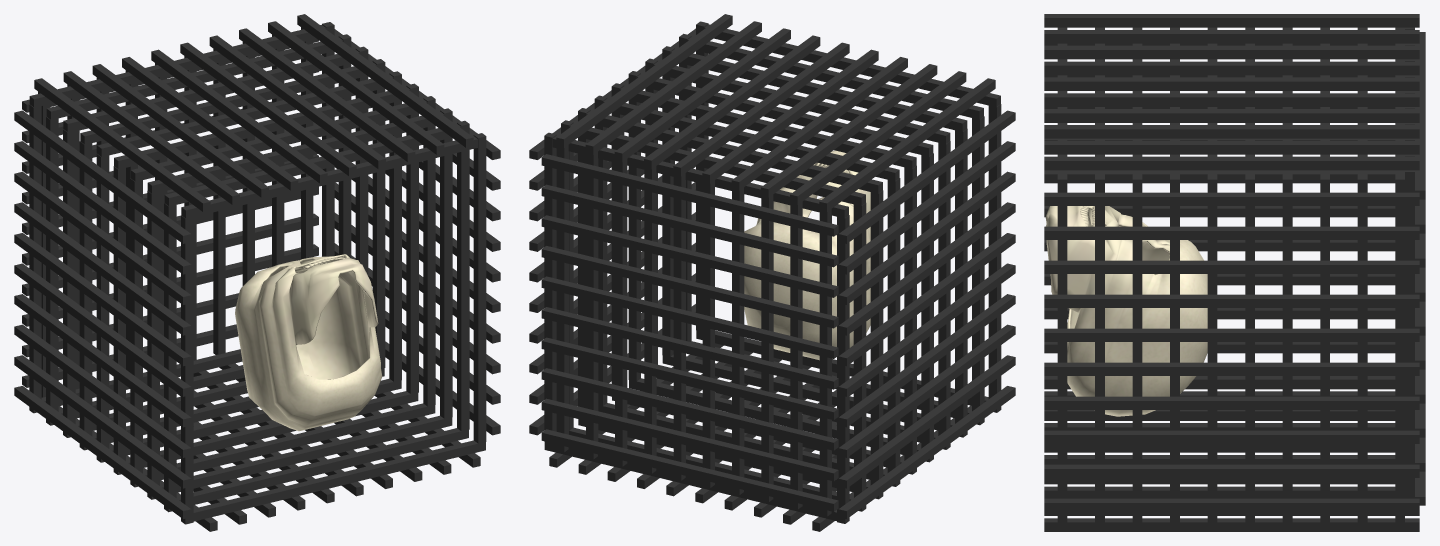
The model's file is skull3.fbx.
3 views of the same model, side by side, from view 1: azimuth 30°, elevation 25°; view 2: azimuth 150°, elevation 25°; view 3: azimuth 270°, elevation 25° (orthographic). The views are drawn at different scales.
Parts seen in each view (by area): view 1: Cube.000; view 2: Cube.000; view 3: Cube.000.
Boxes of the visible parts, x1=… form: Cube.000: x1=14, y1=14, x2=500, y2=531; Cube.000: x1=529, y1=14, x2=1015, y2=531; Cube.000: x1=1044, y1=14, x2=1425, y2=531.
Size of the model in its own units: 442 by 440 by 414.
